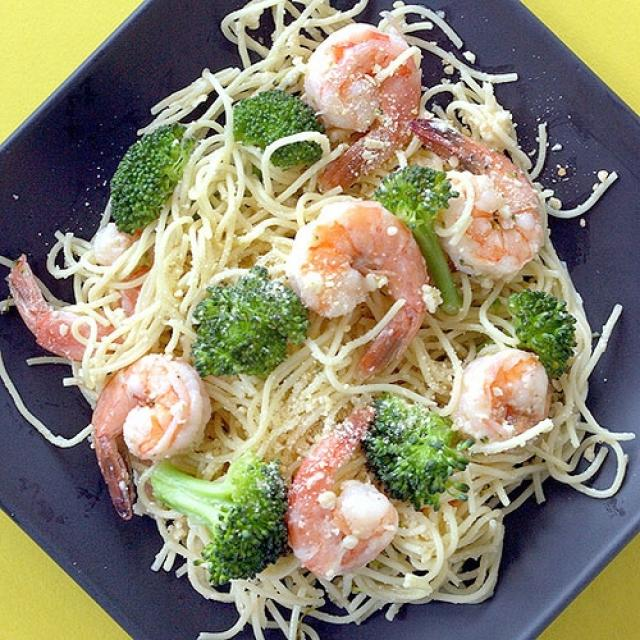炸货点心: (16, 18, 596, 626)
熟制海鲜: (16, 18, 596, 626)
